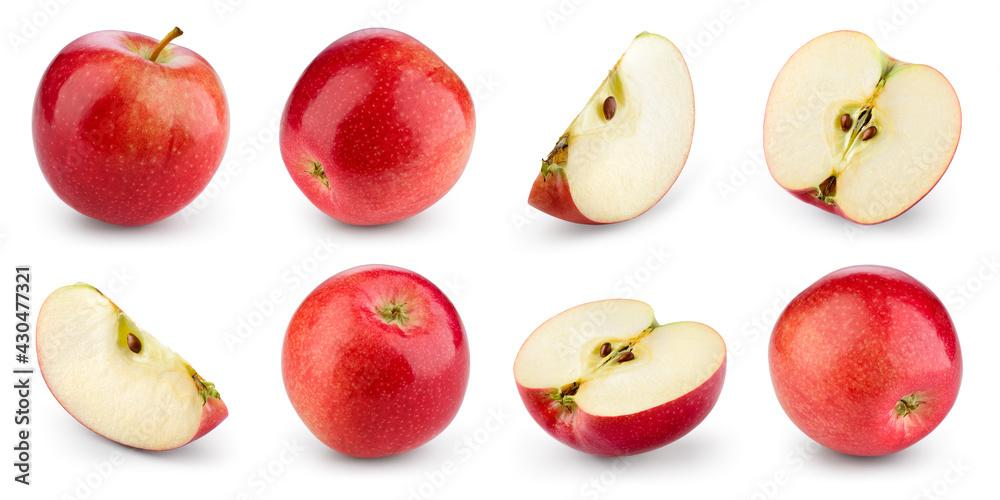apple: (755, 10, 973, 237), (761, 254, 981, 472), (272, 19, 484, 232), (26, 16, 242, 224), (525, 20, 715, 250), (275, 256, 485, 464), (32, 273, 238, 466), (508, 292, 738, 462)
